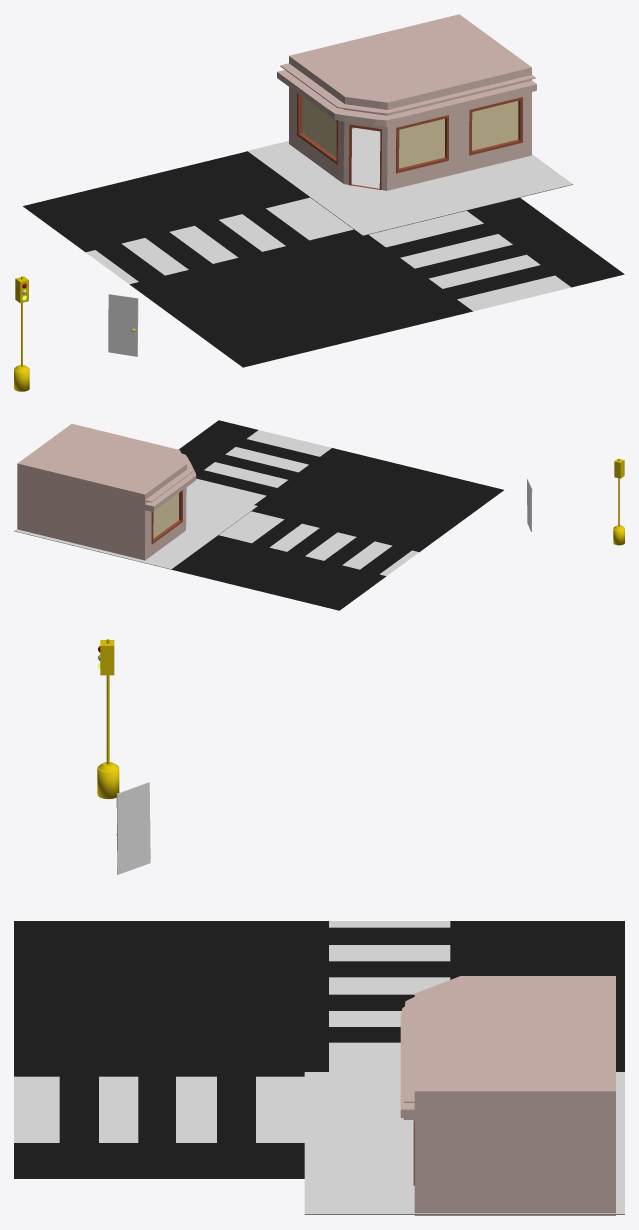
File: cuidad.fbx
3 renders of one model, top to bottom at view 1: azimuth 30°, elevation 25°; view 2: azimuth 150°, elevation 25°; view 3: azimuth 270°, elevation 25°, orthographic. The views are drawn at different scales.
Visible parts, largest first — view 1: Plane, Cube, Cube.001, Cube.005; view 2: Plane, Cube, Cube.001; view 3: Plane, Cube, Cube.001, Cube.005, Cylinder.
Boxes of the visible parts, x1,y1,x2,y2 form: Plane: [23, 151, 624, 367]; Cube: [277, 14, 536, 190]; Cube.001: [247, 128, 572, 235]; Cube.005: [108, 294, 138, 356]; Plane: [171, 420, 503, 610]; Cube: [17, 424, 196, 560]; Cube.001: [14, 489, 257, 569]; Plane: [14, 921, 624, 1178]; Cube: [400, 976, 615, 1215]; Cube.001: [304, 1072, 624, 1214]; Cube.005: [116, 782, 150, 874]; Cylinder: [97, 762, 119, 799].
Size of the model in its own units: 25735 by 4420 by 15629.
